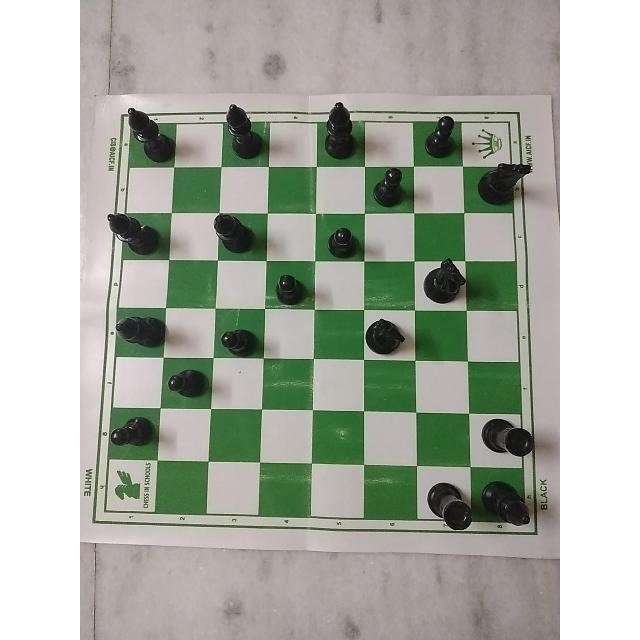black-bishop: (477, 471, 547, 539), (121, 94, 179, 164), (107, 307, 172, 357), (218, 98, 270, 160), (105, 207, 167, 258), (322, 94, 362, 164), (209, 210, 257, 250)
black-knight: (474, 152, 535, 212), (362, 312, 411, 360), (420, 256, 464, 307)
black-pawn: (411, 108, 466, 164), (104, 411, 159, 459), (366, 165, 414, 217), (315, 218, 365, 266), (269, 261, 317, 308), (164, 363, 212, 407), (217, 316, 261, 357)
black-rook: (424, 479, 480, 541), (474, 417, 541, 464)
